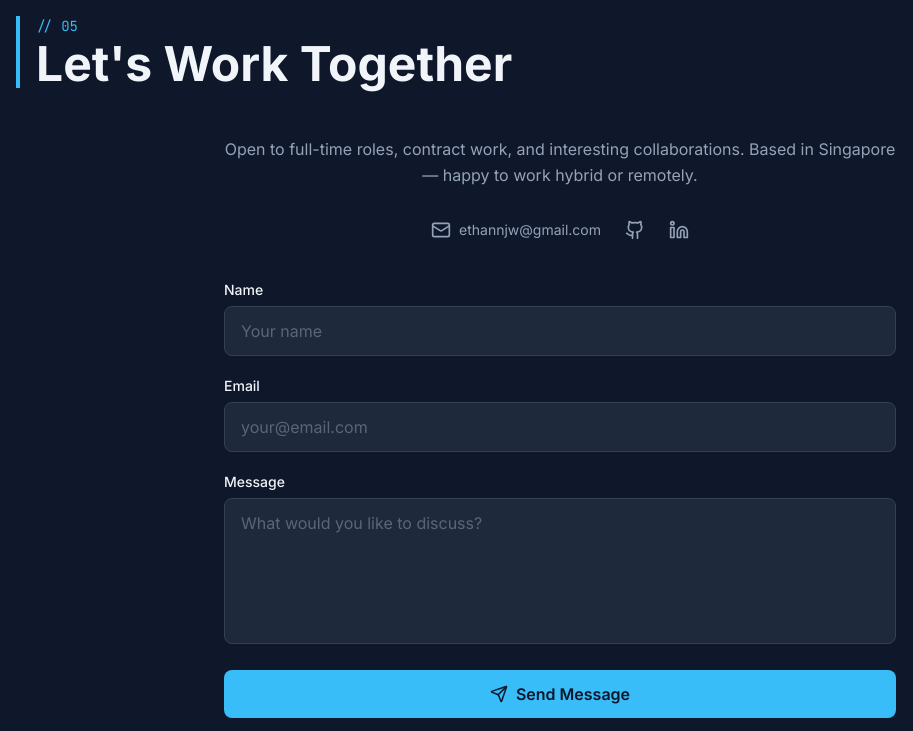
Contact › shows validation errors when submitting empty form
Click the button "Send Message". click: (560, 694)
box: top-left (224, 670), bottom-right (896, 718)
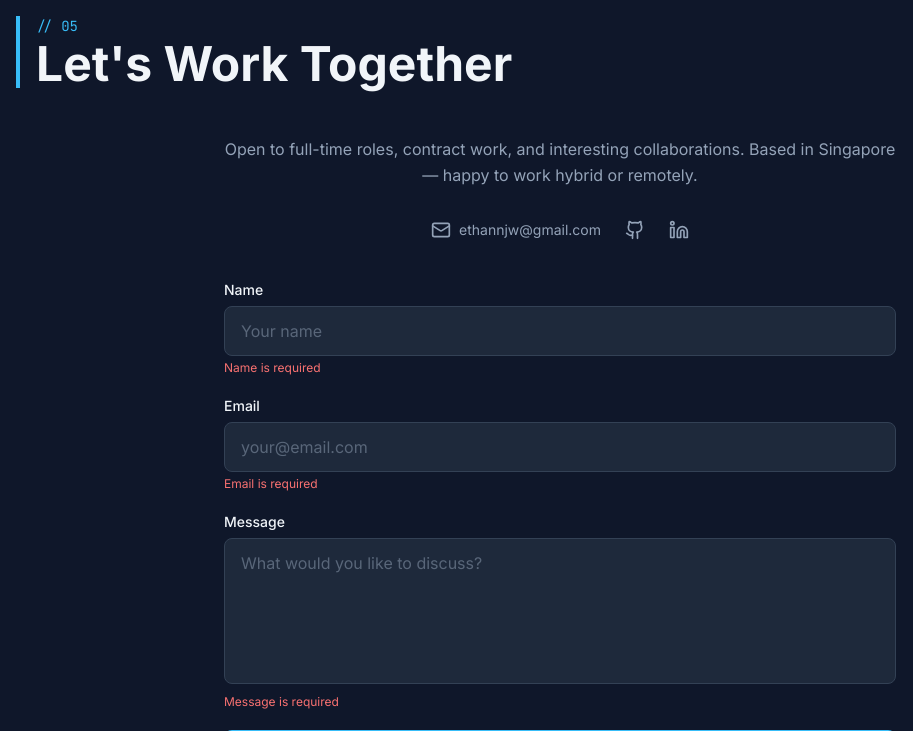
Check: the text "Name is required" is shown, box top-left (224, 360), bottom-right (321, 375)
Check: the text "Email is required" is shown, box top-left (224, 476), bottom-right (318, 491)
Check: the text "Message is required" is shown, box top-left (224, 694), bottom-right (339, 709)
